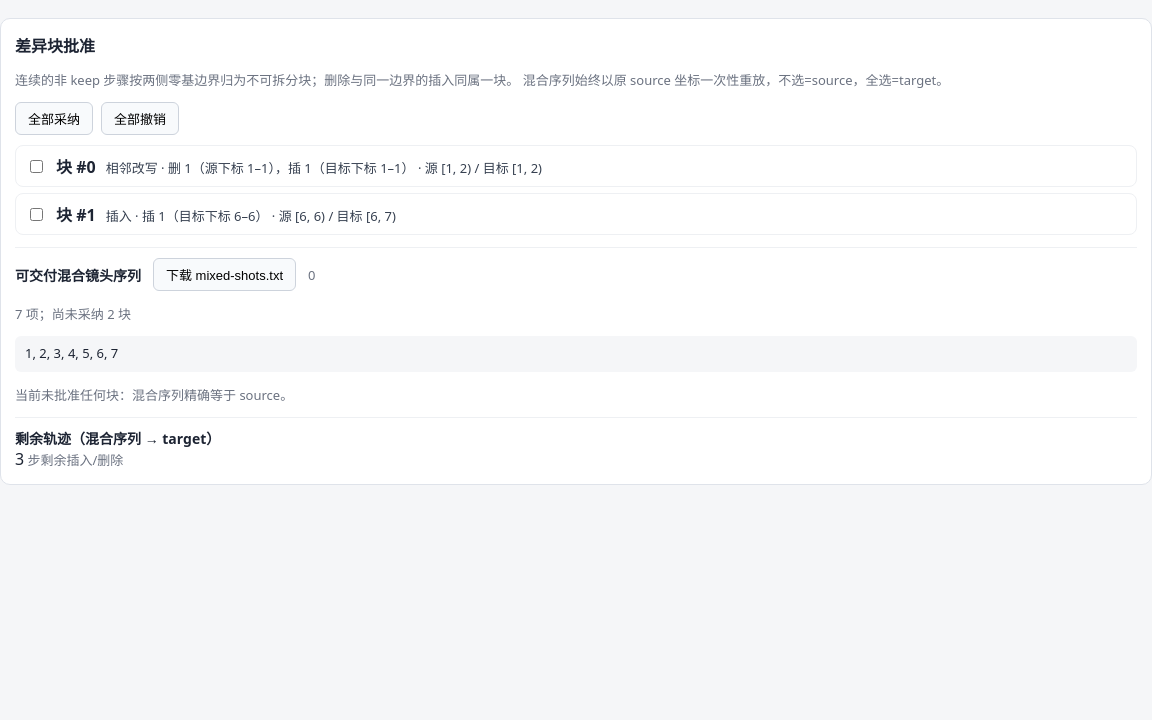
迟到的剩余计算响应不能覆盖新选择 › 先慢后快：旧选择的迟到响应被丢弃，剩余距离只反映新选择
This screenshot has width=1152, height=720.
Expected: the text with test id "remaining-distance" reads "3", [15,448,24,470]
Click the 1st checkbox with test id "block-checkbox". click: (36, 166)
box: [30,160,43,173]
Wait 150 ms
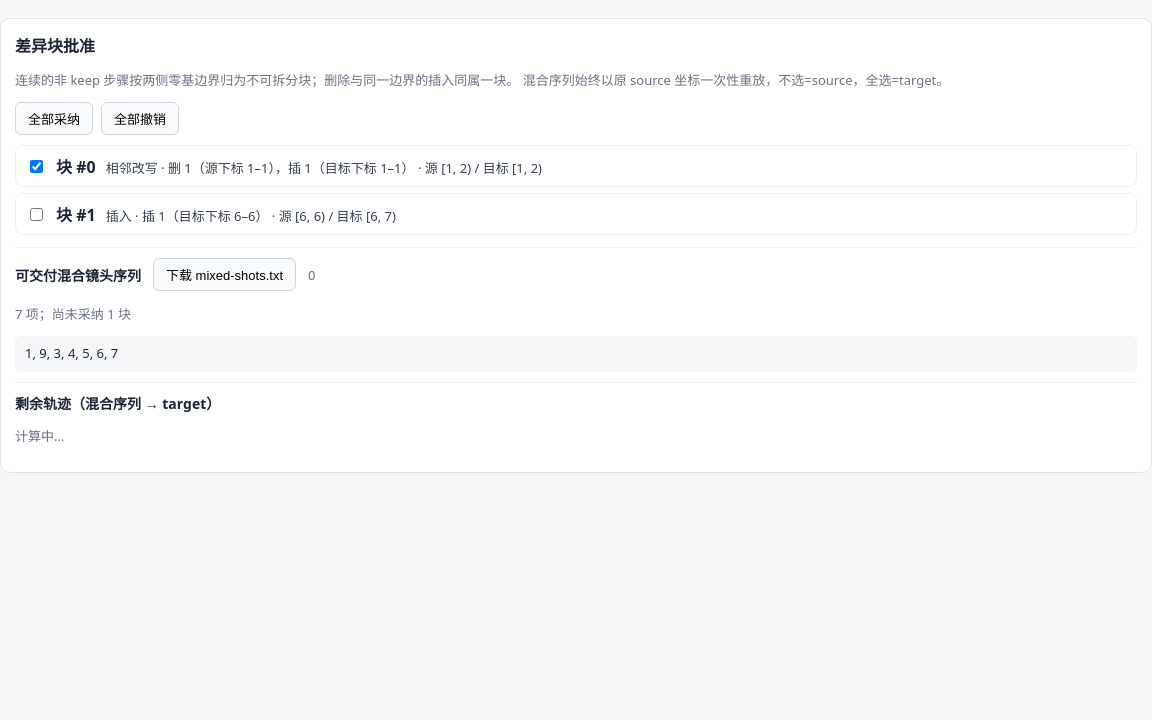
Click the 1st checkbox with test id "block-checkbox". click: (36, 166)
box: [30,160,43,173]
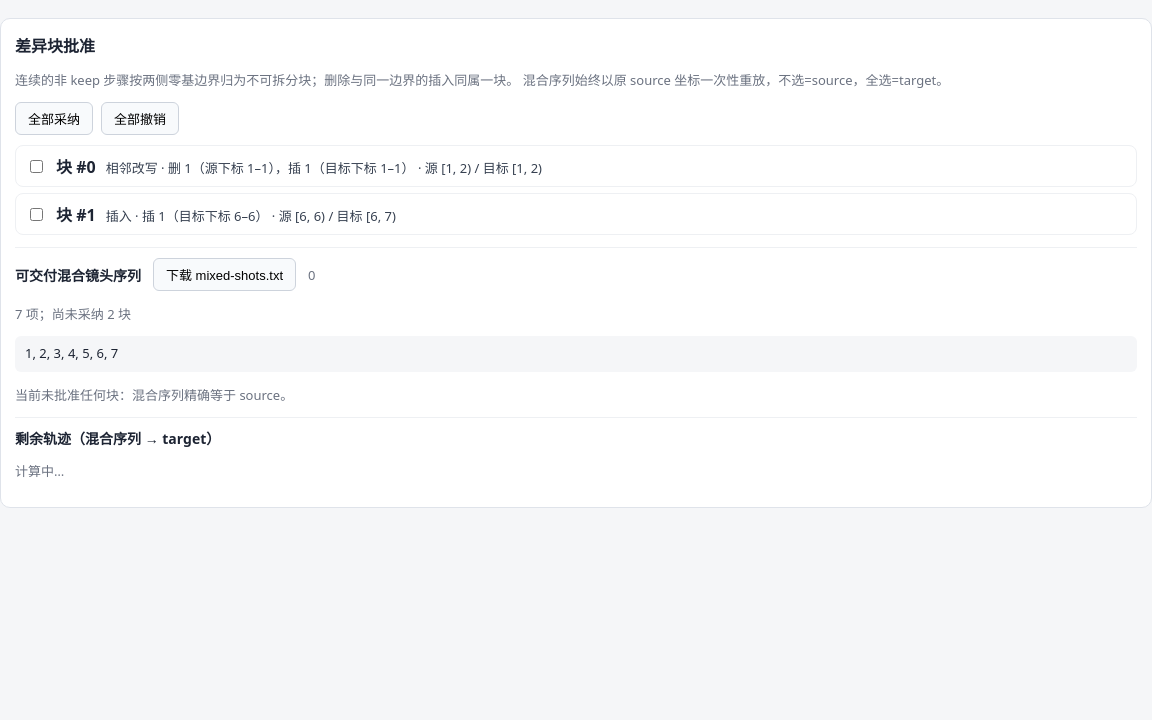
Click the 2nd checkbox with test id "block-checkbox". click: (36, 214)
box: [30,208,43,221]
Wait 150 ms
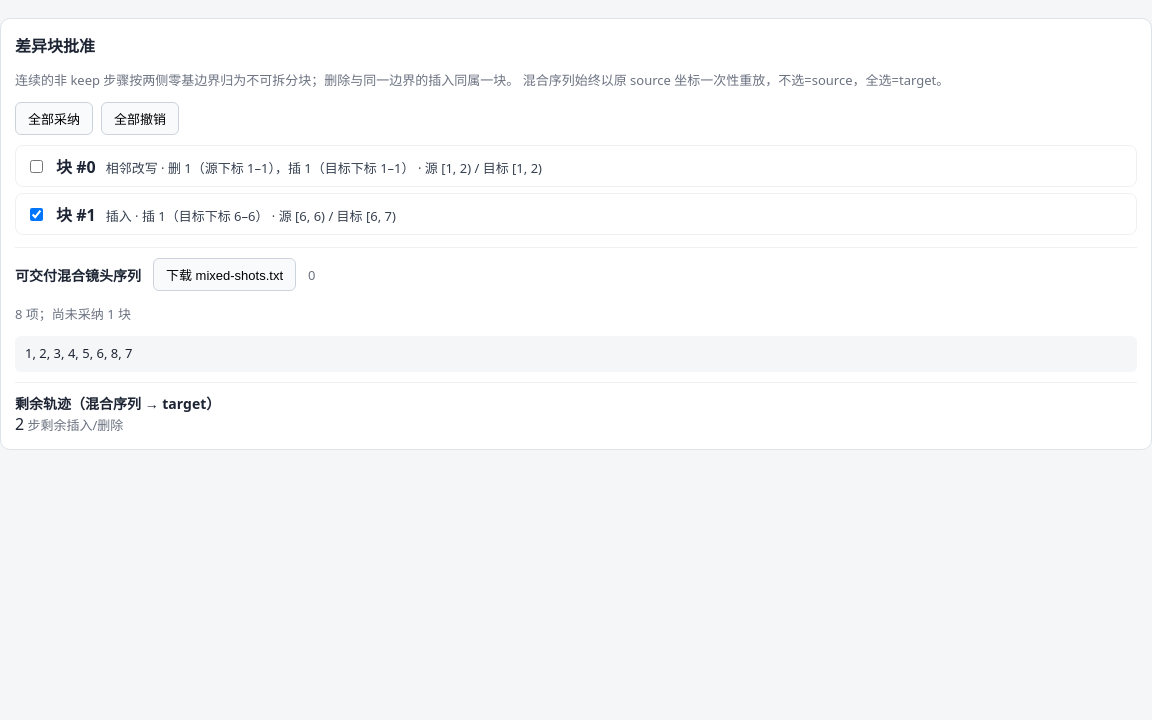
Expected: the text with test id "remaining-distance" reads "2", [15,413,24,435]
Expected: the text with test id "mixed-sequence" reads "1, 2, 3, 4, 5, 6, 8, 7", [25,344,132,362]
